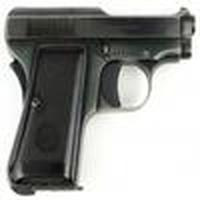gun: (4, 6, 193, 195)
